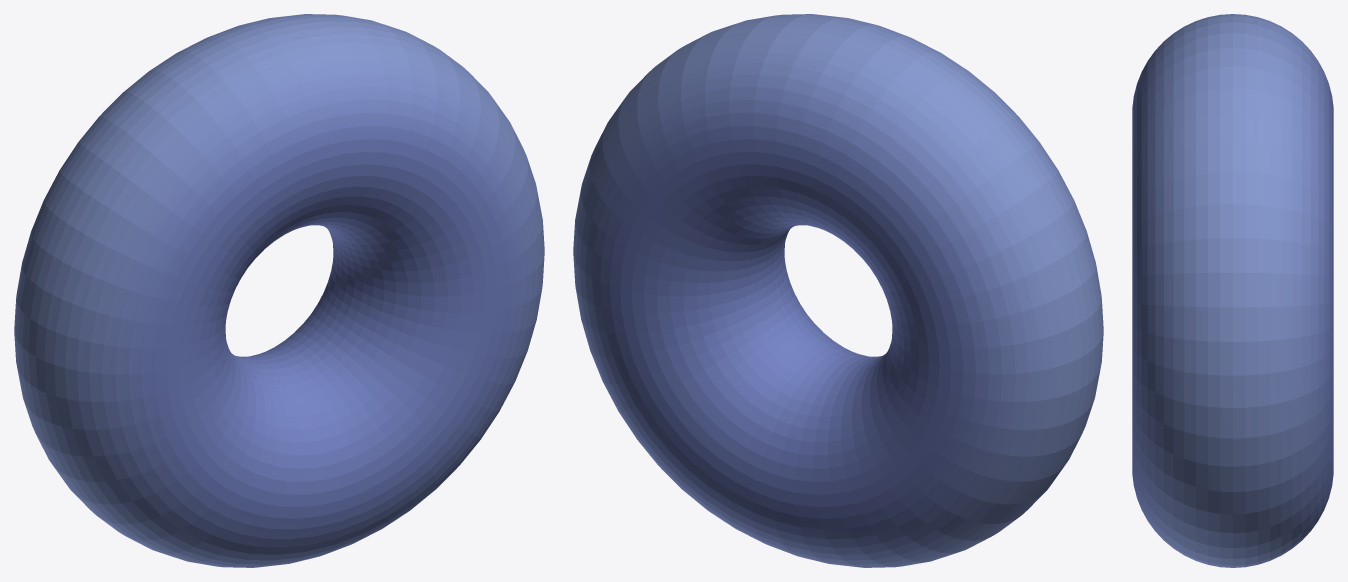
3 views of the same model, side by side, from view 1: azimuth 30°, elevation 25°; view 2: azimuth 150°, elevation 25°; view 3: azimuth 270°, elevation 25° (orthographic). The views are drawn at different scales.
Parts seen in each view (by area): view 1: world; view 2: world; view 3: world.
Part boxes in pixels (x1,y1,x2,y2): world: (14,14,544,567); world: (573,14,1103,567); world: (1132,14,1333,567).
Size of the model in its own units: 15.73 by 15.7 by 5.72.
